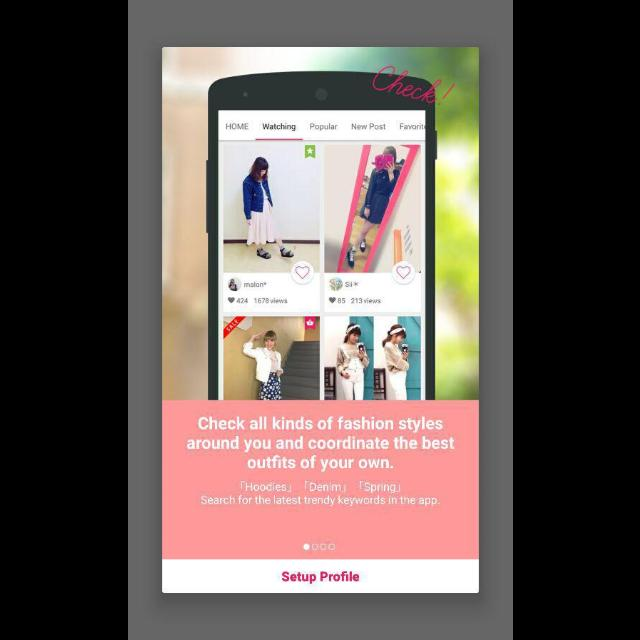image: (162, 48, 478, 400)
pageindicator: (303, 544, 335, 550)
panel: (162, 48, 478, 592)
text: (186, 416, 454, 469), (200, 480, 436, 506)
textbutton: (162, 560, 478, 592)
